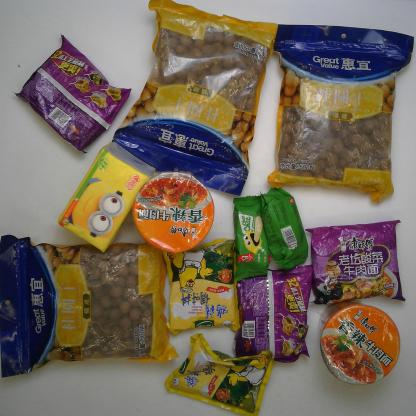Dessert: (256, 186, 310, 274), (228, 192, 272, 283)
Dried Food: (110, 1, 280, 198), (265, 22, 415, 208), (1, 233, 180, 379)
Instant Noodles: (10, 31, 134, 157), (302, 216, 408, 306), (231, 263, 315, 365), (316, 298, 402, 388), (131, 170, 216, 255)
Seasoner: (164, 332, 275, 416), (161, 235, 243, 337)
Tissue: (56, 140, 159, 254)
